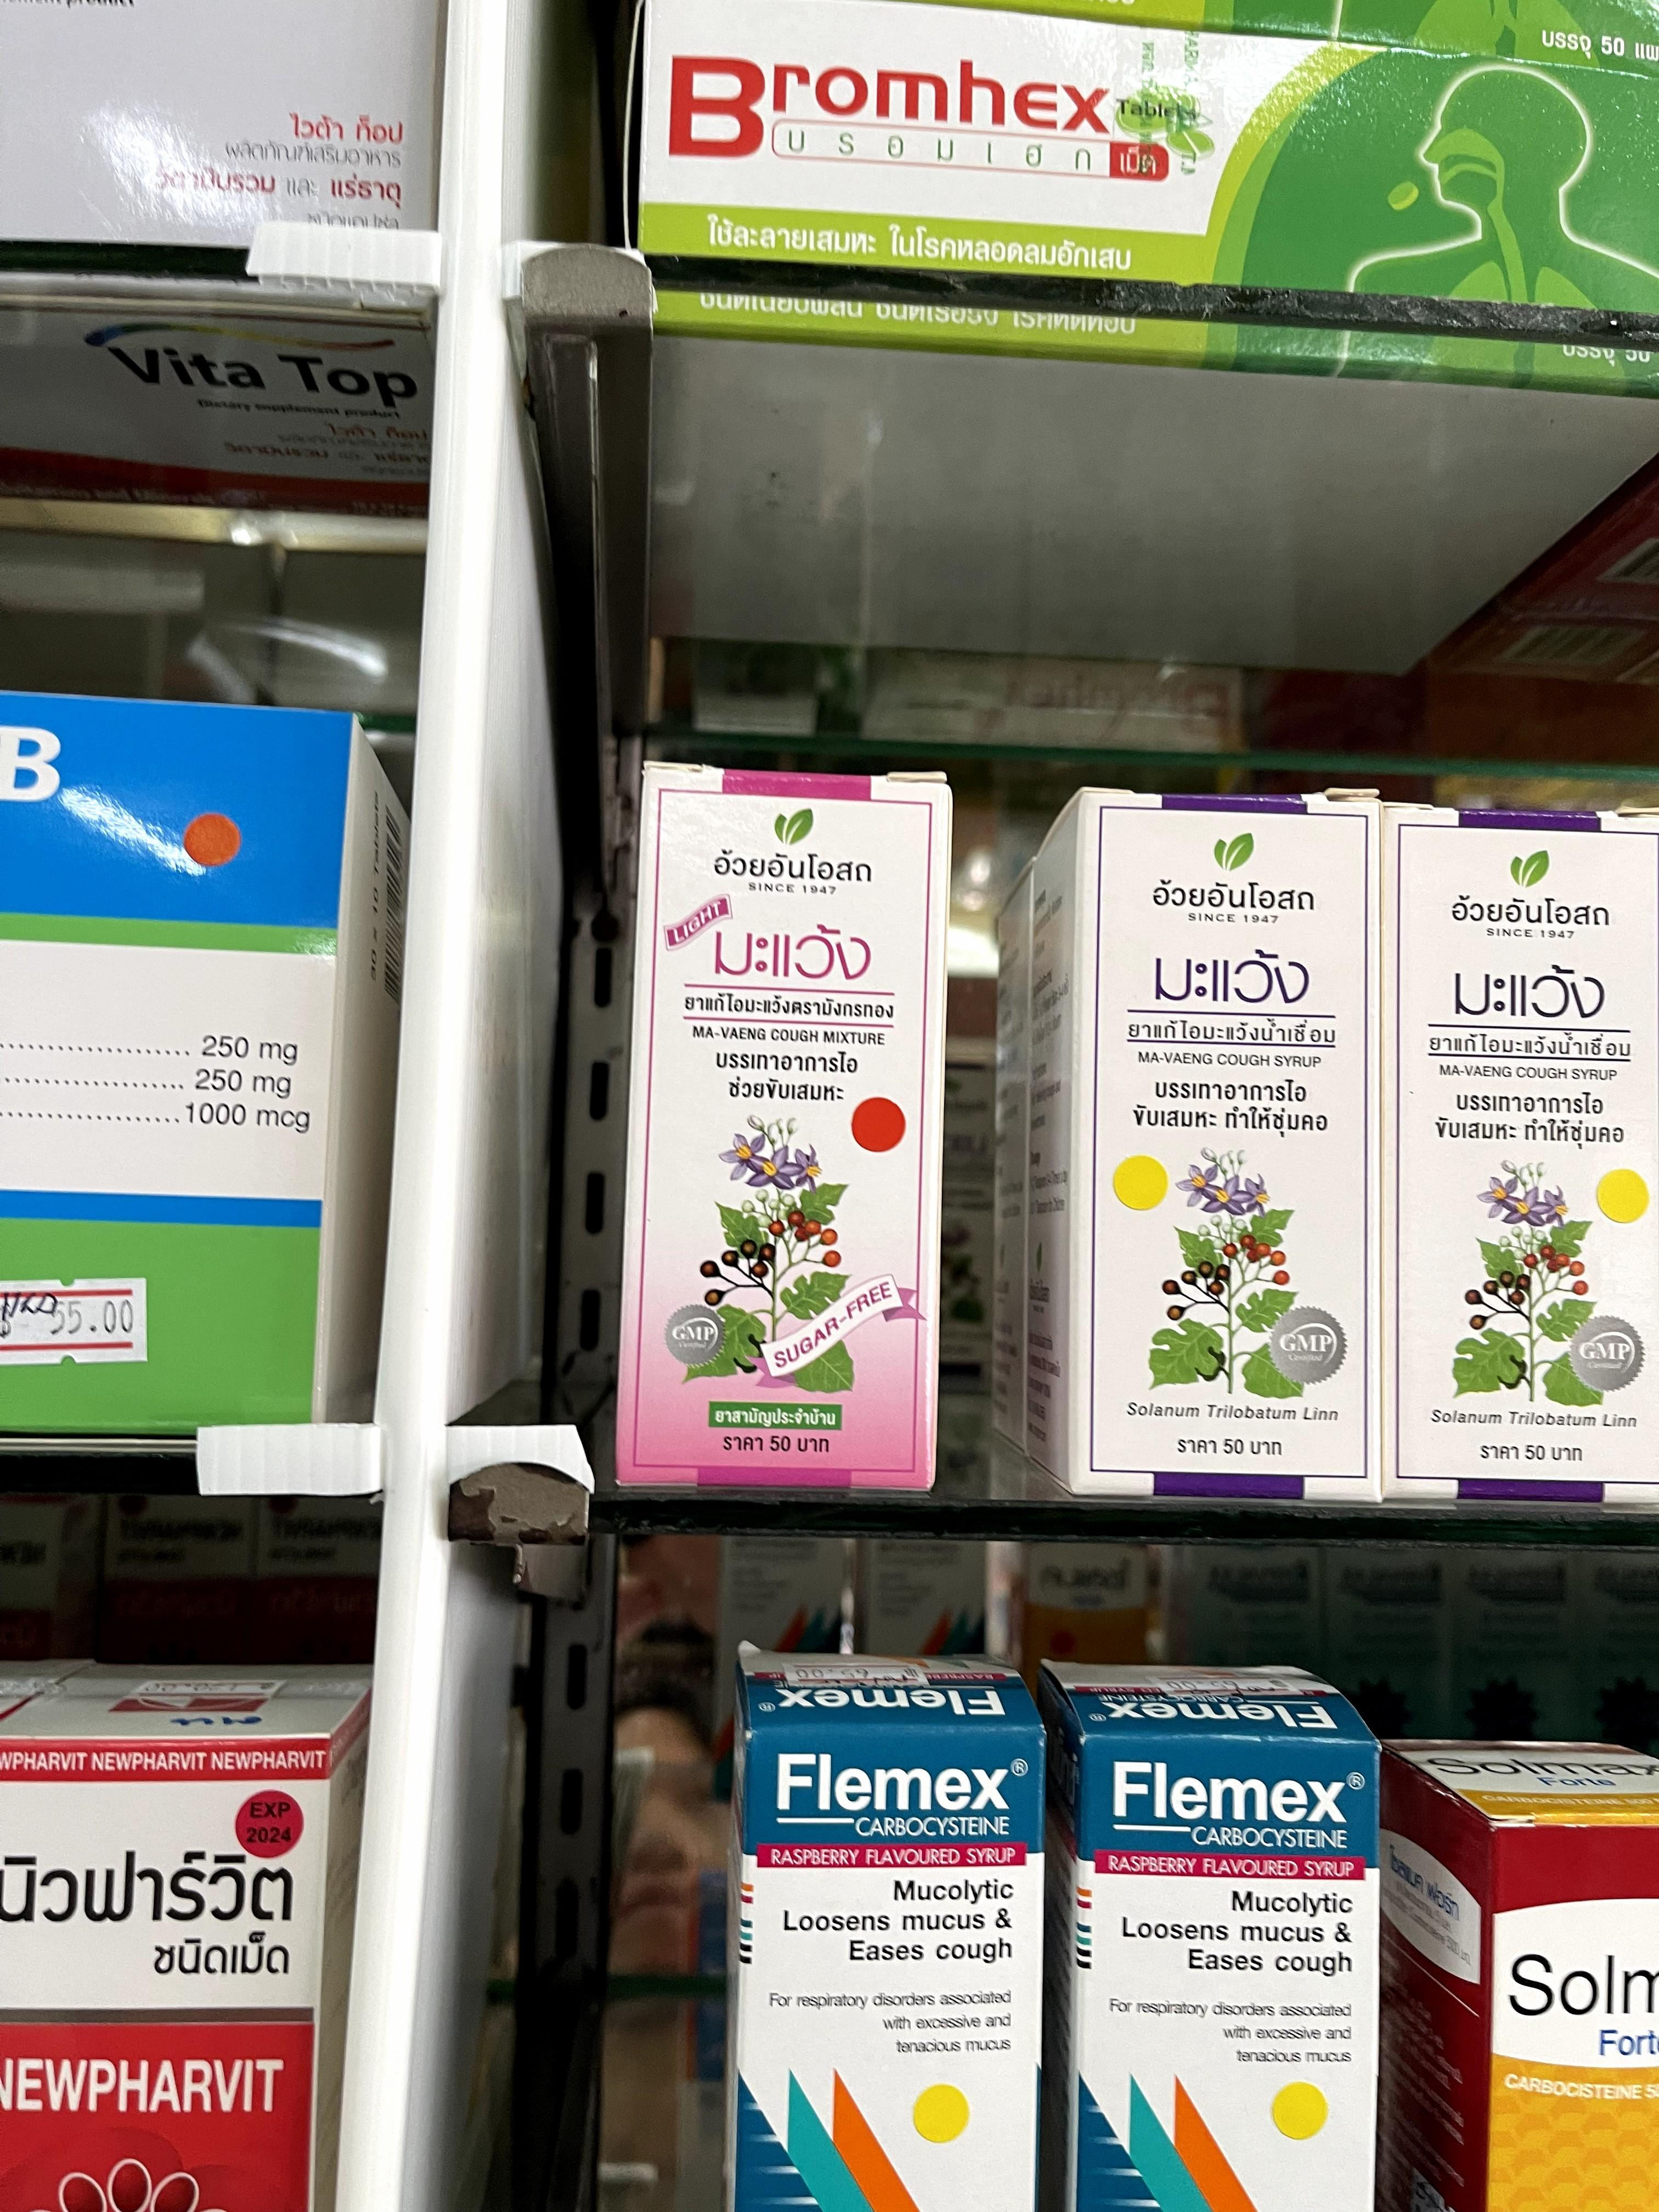Ma-Vaeng_Light: (631, 765, 946, 1503)
Ma-Vaeng_Syrup: (1042, 791, 1385, 1507), (1391, 801, 1659, 1508)
Newpharvit: (3, 1679, 354, 2212)
Solmax: (1401, 1733, 1659, 2212)
